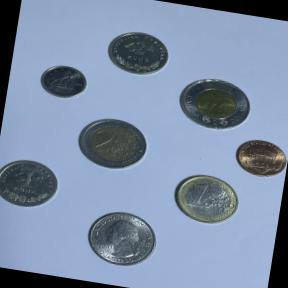coin: (171, 70, 258, 140), (78, 203, 164, 273), (68, 110, 155, 179), (166, 167, 245, 231), (100, 24, 176, 82), (230, 134, 288, 183), (34, 60, 92, 104)
